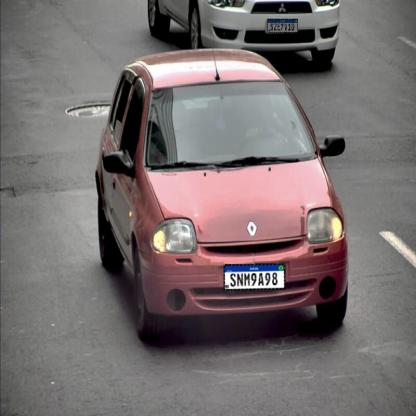PlacaM: (224, 263, 286, 290), (267, 18, 298, 32)
